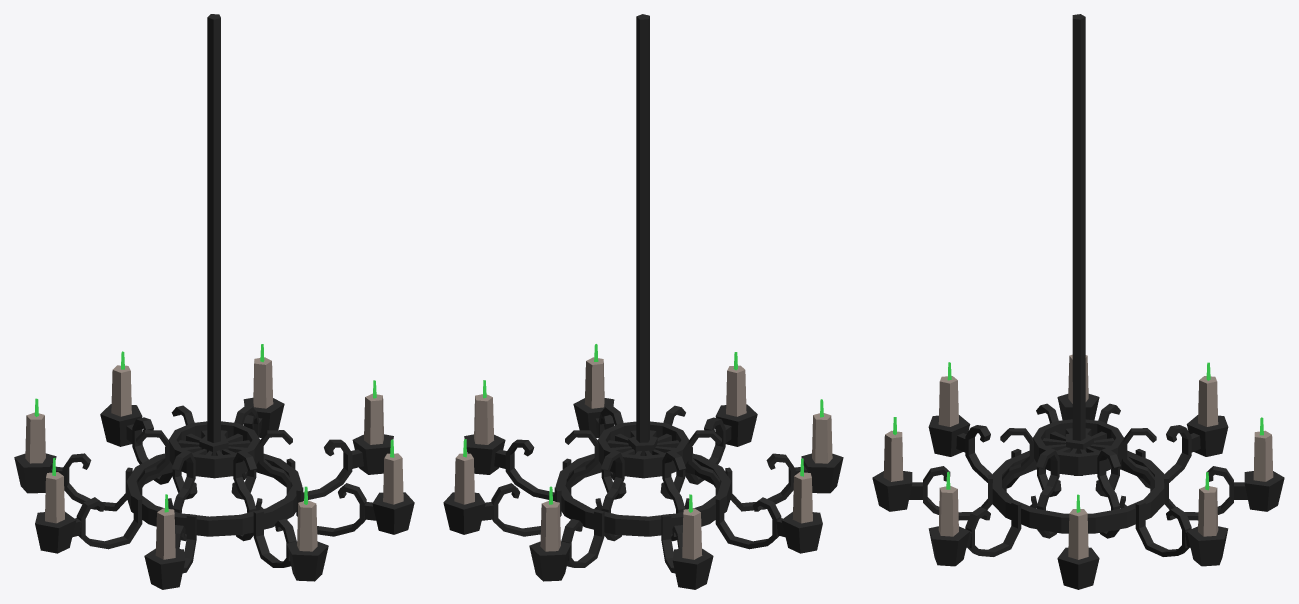
Rendered from LPHorror_Chandelier.fbx.
3 renders of one model, left to right at view 1: azimuth 30°, elevation 25°; view 2: azimuth 150°, elevation 25°; view 3: azimuth 270°, elevation 25°, orthographic.
Parts seen in each view (by area): view 1: Chandelier; view 2: Chandelier; view 3: Chandelier.
Boxes of the visible parts, x1,y1,x2,y2 form: Chandelier: (14, 14, 414, 589); Chandelier: (443, 14, 843, 589); Chandelier: (872, 14, 1284, 589).
Size of the model in its own units: 228 by 306 by 228.
